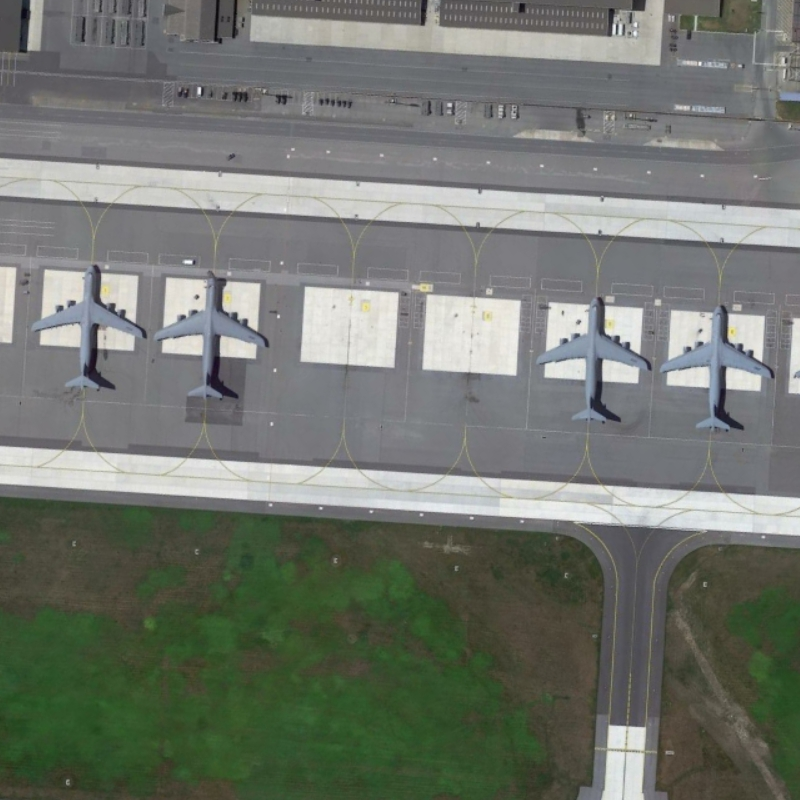A4: (150, 263, 276, 408), (532, 285, 656, 432), (26, 257, 149, 397), (655, 297, 775, 439)
